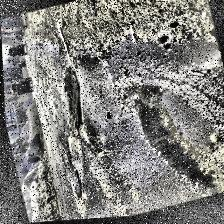pothole: (124, 68, 224, 212)
